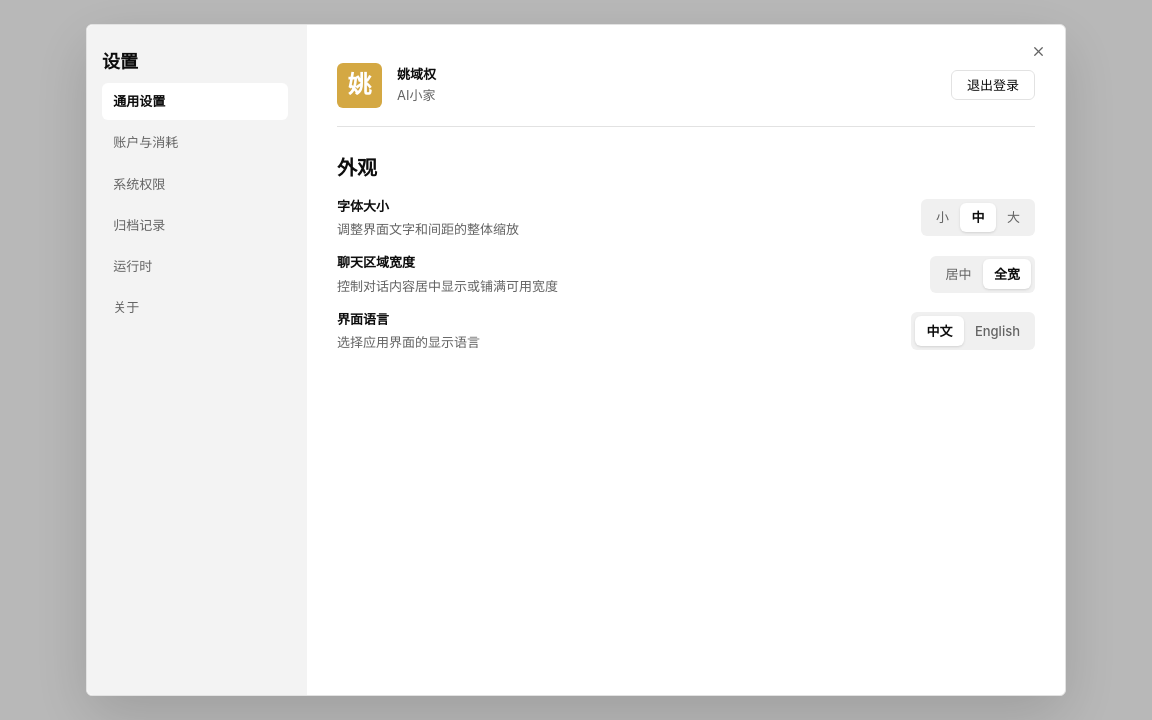
Test: SettingsModal › switching to enabled menu changes the right panel
Click the button "关于".
click(195, 307)  # box left=102, top=288, right=288, bottom=326
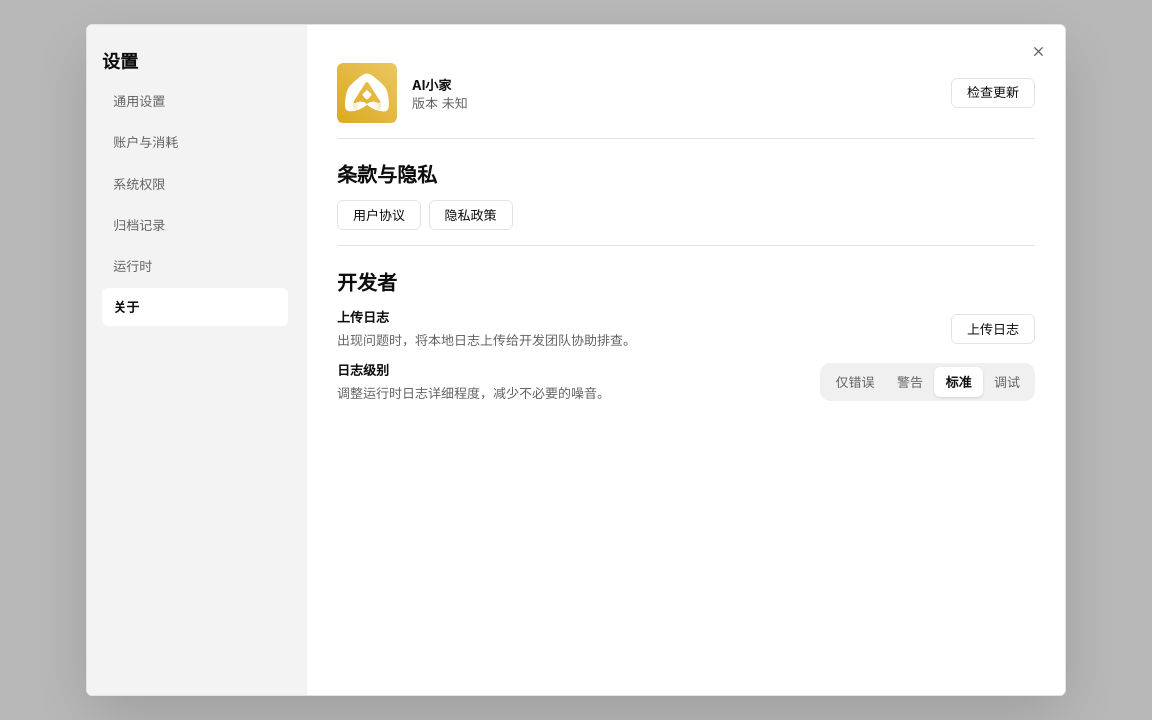
Expected: the button "检查更新" is shown, left=951, top=78, right=1035, bottom=108
